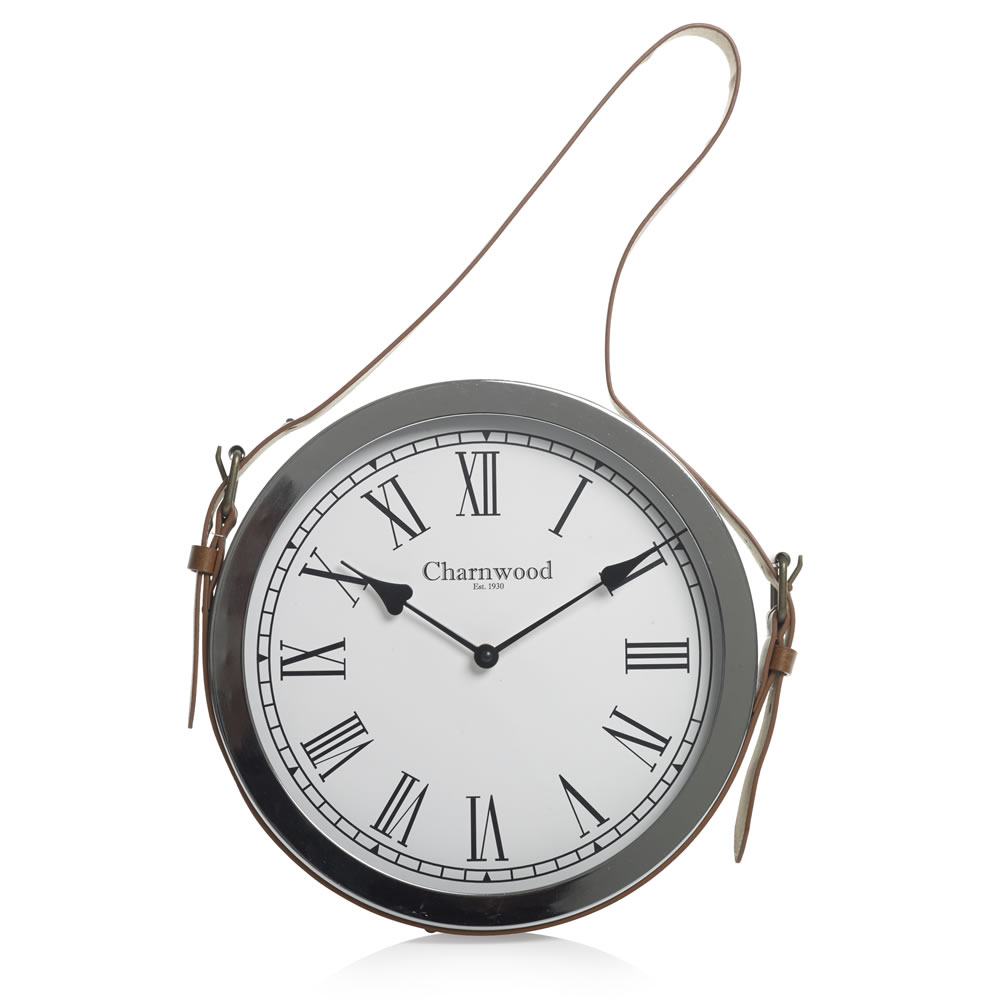clock: (248, 419, 727, 900)
